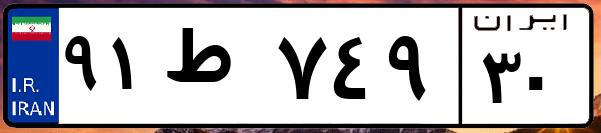0: (525, 38, 570, 115)
1: (110, 28, 158, 98)
3: (475, 38, 525, 113)
4: (330, 28, 385, 110)
7: (270, 28, 330, 110)
9: (385, 28, 445, 110), (57, 26, 110, 100)
ط: (158, 20, 270, 120)
